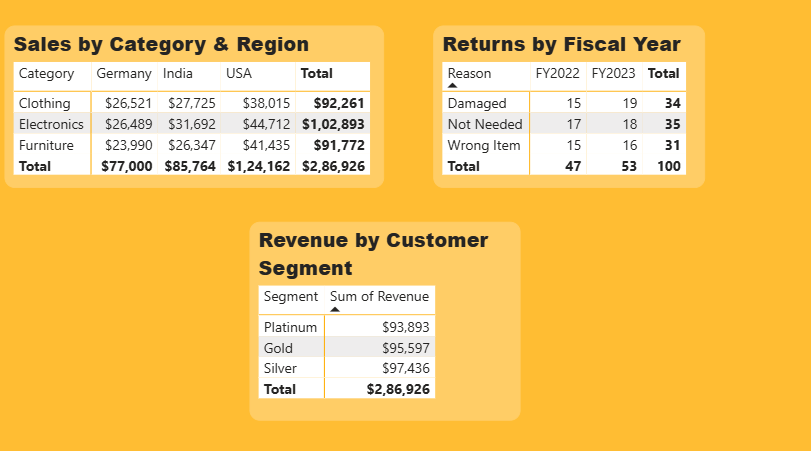

This screenshot's page, from the dashboard's own definition file:
{"tool":"powerbi","page":{"name":"Page 1","canvas":[1280,720],"ordinal":0},"visuals":[{"type":"pivotTable","title":"Sales by Category & Region","fields":{"Rows":["Product_Dim - Sheet1.Category"],"Columns":["Region_Dim - Sheet1.Country"],"Values":["Sum(Sales_Fact - Sheet1.Revenue)"]},"box":[22,45.3,366.4,156.4],"z":0},{"type":"pivotTable","title":"Returns by Fiscal Year","fields":{"Rows":["Returns_Fact - Sheet1.Reason"],"Columns":["Date_Dim - Sheet1.Fiscal Year"],"Values":["CountNonNull(Returns_Fact - Sheet1.ReturnID)"]},"box":[435,45.3,262.1,156.4],"z":1000},{"type":"pivotTable","title":"Revenue by Customer Segment","fields":{"Rows":["Customer_Dim - Sheet1.Segment"],"Values":["Sum(Sales_Fact - Sheet1.Revenue)"]},"box":[258,234.8,261.7,192],"z":2000}]}

Visuals, with their boxes in screenshot pixels (x1, y1, x2, y2), scaled from the page's 1280x720 canvas onto the 811x451 screenshot:
"Sales by Category & Region" pivotTable: Rect(14, 28, 246, 126)
"Returns by Fiscal Year" pivotTable: Rect(276, 28, 442, 126)
"Revenue by Customer Segment" pivotTable: Rect(163, 147, 329, 267)
